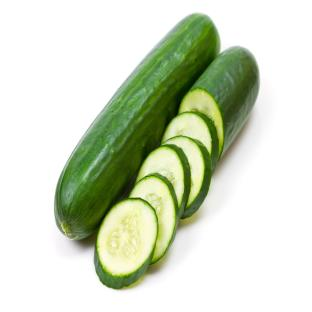Cucumber: (55, 14, 220, 239), (179, 47, 259, 158), (94, 199, 158, 288), (129, 174, 178, 264), (163, 136, 211, 218), (136, 145, 190, 217), (161, 112, 218, 173)
